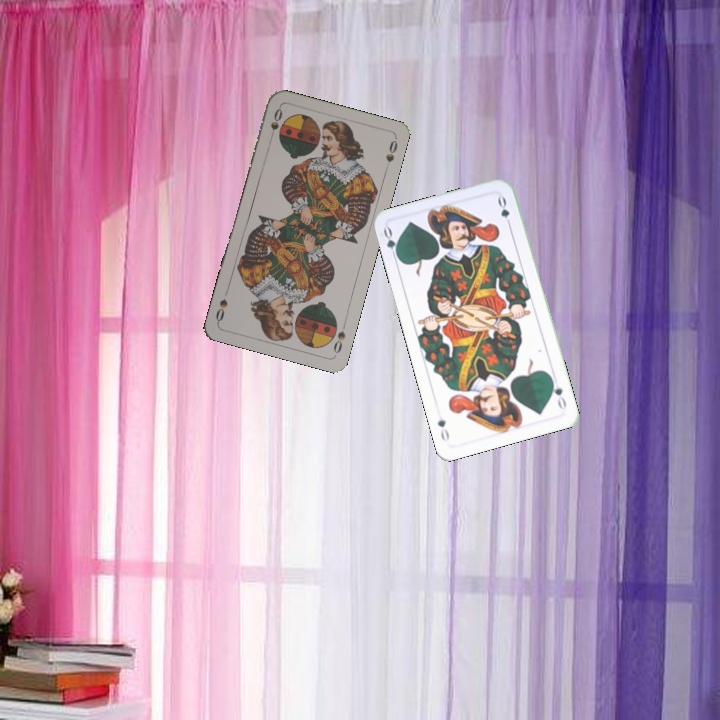GO: (379, 223, 402, 264), (547, 374, 569, 412)
SO: (265, 104, 285, 144), (329, 317, 349, 356)
